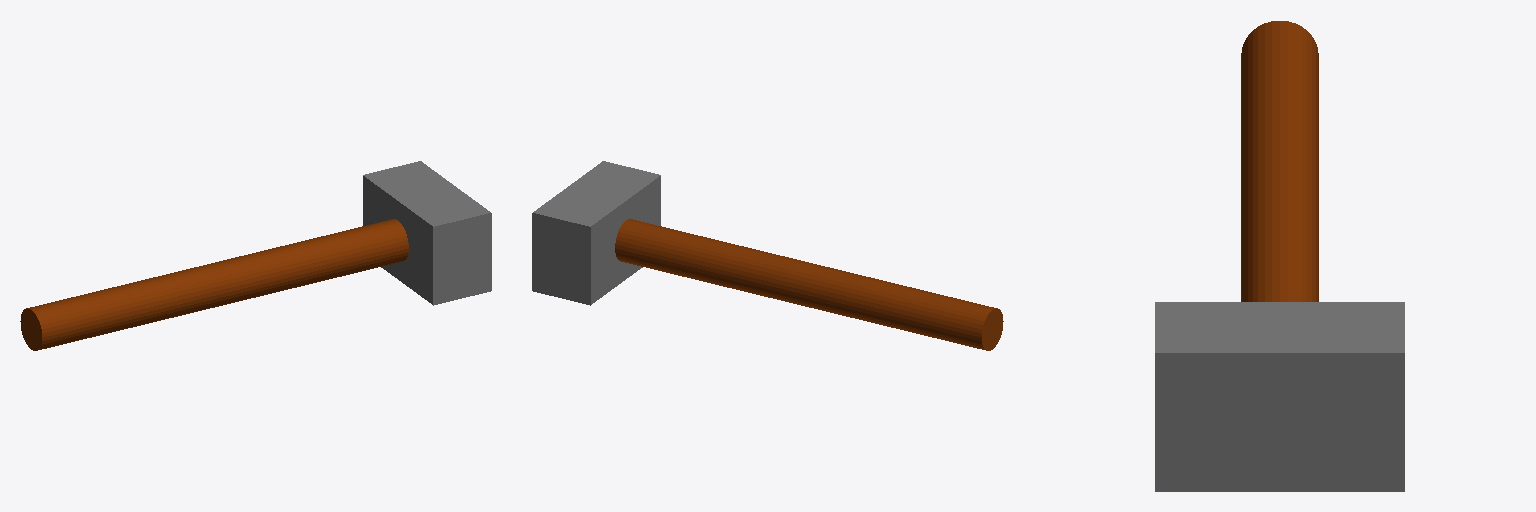
robot.urdf — handle_head:
<?xml version="1.0"?>
<robot name="handle_head">

  <link name="handle_head">
    <!-- Handle -->
    <visual>
              <origin xyz="0 0 0" rpy="0 -1.5707963267948966 0"/>
        <geometry>
          <cylinder length="0.28311175580812287" radius="0.014658092049408558"/>
        </geometry>
        
      <material name="brown">
        <color rgba="0.55 0.27 0.07 1.0"/>
      </material>
    </visual>
    <collision>
              <origin xyz="0 0 0" rpy="0 -1.5707963267948966 0"/>
        <geometry>
          <cylinder length="0.28311175580812287" radius="0.014658092049408558"/>
        </geometry>
        
    </collision>

    <!-- Head -->
    <visual>
              <origin xyz="0.16398565588926017 0 0" rpy="0 0 0"/>
        <geometry>
          <box size="0.044859555970397466 0.09482488727884762 0.0580180661018732"/>
        </geometry>
        
      <material name="gray">
        <color rgba="0.5 0.5 0.5 1.0"/>
      </material>
    </visual>
    <collision>
              <origin xyz="0.16398565588926017 0 0" rpy="0 0 0"/>
        <geometry>
          <box size="0.044859555970397466 0.09482488727884762 0.0580180661018732"/>
        </geometry>
        
    </collision>

    <inertial>
      <origin xyz="0.12598704827650992 0 0" rpy="0 0 0"/>
      <mass value="0.5163628125534676"/>
      <inertia ixx="0.0004212302241581113" iyy="0.0035709179389094257" izz="0.003756898470031978" ixy="0" ixz="0" iyz="0"/>
    </inertial>
  </link>

</robot>

--- Facts derived from the render (not from the file) ---
The picture shows the robot from 3 angles, left to right: view 1: azimuth 30°, elevation 25°; view 2: azimuth 150°, elevation 25°; view 3: azimuth 270°, elevation 25°; orthographic projection.
Robot: handle_head — 1 links, 0 joints (none); root link handle_head; default pose: every joint at zero.
Links seen in each view (by area): view 1: handle_head; view 2: handle_head; view 3: handle_head.
Link boxes in pixels (x1,y1,x2,y2): handle_head: (20,161,491,350); handle_head: (532,161,1003,350); handle_head: (1155,21,1404,491).
Size in the robot's own frame: 0.328 by 0.0948 by 0.058 metres.
Geometry: primitives only (box / cylinder / sphere), no mesh files.
